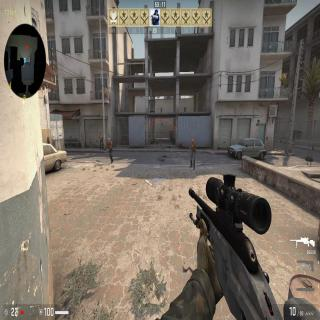T-Body: (189, 137, 197, 170), (106, 137, 115, 164), (98, 132, 103, 150)
T-Head: (99, 132, 102, 136), (192, 138, 194, 143), (108, 137, 110, 142)
